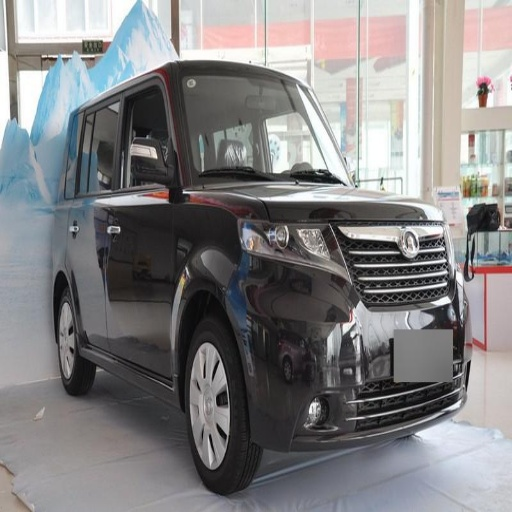front_bumper: (245, 220, 466, 440)
front_right_door: (121, 81, 177, 236), (107, 237, 168, 367)
front_right_light: (242, 220, 335, 261)
trunk: (26, 211, 72, 280), (142, 232, 173, 279)
